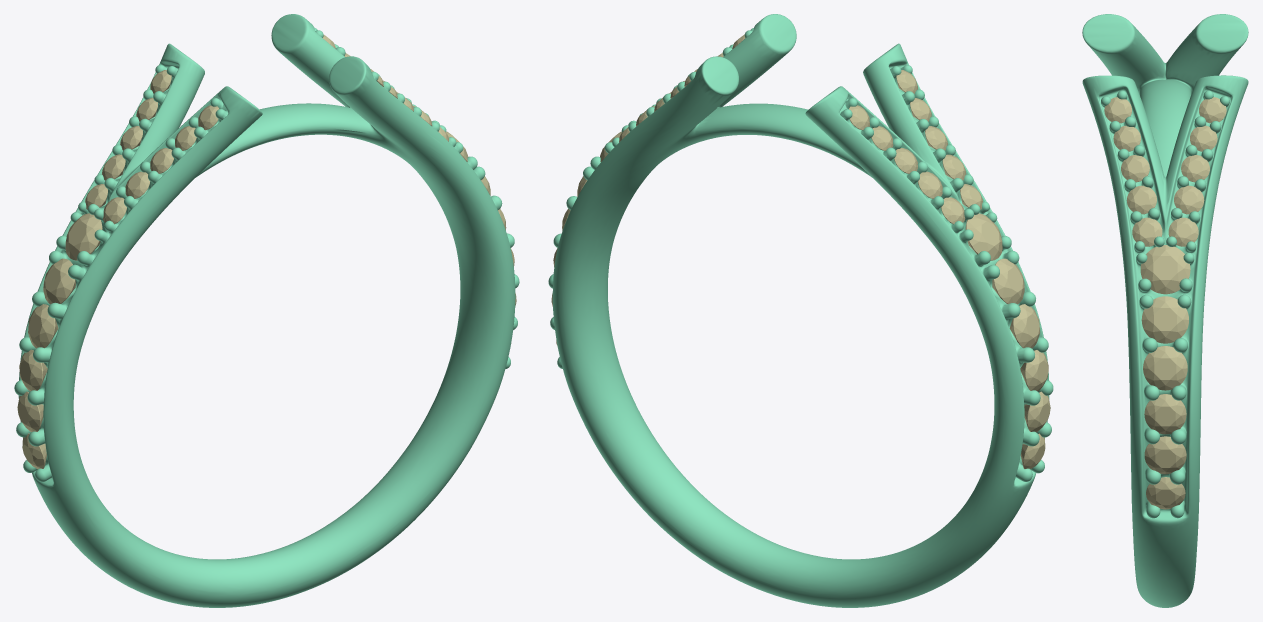
The picture shows the model from 3 angles, left to right: view 1: azimuth 30°, elevation 25°; view 2: azimuth 150°, elevation 25°; view 3: azimuth 270°, elevation 25°; orthographic projection.
Visible parts, largest first — view 1: Metal02, Diamond_Gem.005, Diamond_Gem.004, Diamond_Gem.003, Diamond_Gem.002, Diamond_Gem.001; view 2: Metal02, Diamond_Gem.005, Diamond_Gem.004, Diamond_Gem.003, Diamond_Gem.002, Diamond_Gem.001; view 3: Metal02, Diamond_Gem.026, Diamond_Gem.027, Diamond_Gem.028, Diamond_Gem.029, Diamond_Gem.030, Diamond_Gem.031, Diamond_Gem.017, Diamond_Gem.024, Diamond_Gem.016, Diamond_Gem.025, Diamond_Gem.018 (+5 smaller).
Part boxes in pixels (box(x1,y1,x2,y2)): Metal02: box(14, 14, 519, 607); Diamond_Gem.005: box(65, 213, 102, 260); Diamond_Gem.004: box(43, 258, 75, 304); Diamond_Gem.003: box(28, 304, 58, 348); Diamond_Gem.002: box(19, 349, 47, 391); Diamond_Gem.001: box(17, 391, 43, 432); Metal02: box(548, 14, 1053, 607); Diamond_Gem.005: box(965, 213, 1002, 260); Diamond_Gem.004: box(992, 258, 1024, 304); Diamond_Gem.003: box(1009, 304, 1039, 348); Diamond_Gem.002: box(1020, 350, 1048, 391); Diamond_Gem.001: box(1024, 391, 1050, 432); Metal02: box(1082, 14, 1248, 607); Diamond_Gem.026: box(1140, 245, 1190, 294); Diamond_Gem.027: box(1141, 296, 1188, 343); Diamond_Gem.028: box(1143, 346, 1187, 390); Diamond_Gem.029: box(1144, 394, 1186, 434); Diamond_Gem.030: box(1144, 436, 1186, 474); Diamond_Gem.031: box(1146, 477, 1185, 509); Diamond_Gem.017: box(1174, 185, 1204, 214); Diamond_Gem.024: box(1126, 185, 1156, 214); Diamond_Gem.016: box(1168, 217, 1198, 246); Diamond_Gem.025: box(1132, 217, 1162, 246); Diamond_Gem.018: box(1181, 155, 1209, 182).
Bounding box in the file's own units: 21.19 × 22.54 × 6.31.
